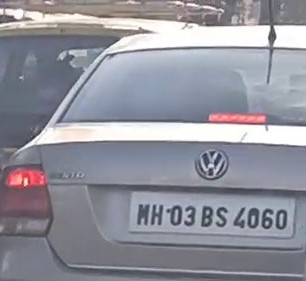MH03BS4060: (129, 190, 297, 238)
